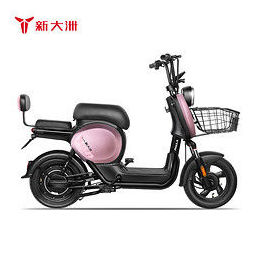电动车: (11, 50, 246, 208)
